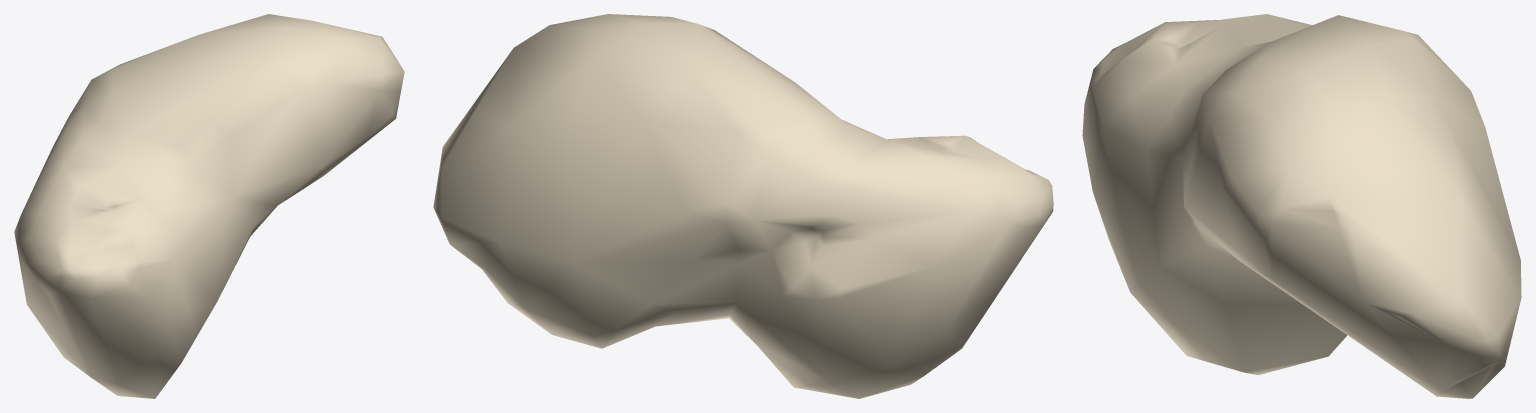
File: scaphoid-bone-r.glb
The picture shows the model from 3 angles, left to right: view 1: azimuth 30°, elevation 25°; view 2: azimuth 150°, elevation 25°; view 3: azimuth 270°, elevation 25°; orthographic projection. The views are drawn at different scales.
Visible parts, largest first — view 1: Scaphoid bone.r; view 2: Scaphoid bone.r; view 3: Scaphoid bone.r.
Part boxes in pixels (bbox=[...]): Scaphoid bone.r: bbox=[14, 14, 404, 398]; Scaphoid bone.r: bbox=[433, 14, 1053, 398]; Scaphoid bone.r: bbox=[1082, 14, 1521, 398].
Bounding box in the file's own units: 0.0246 × 0.0162 × 0.0159.
